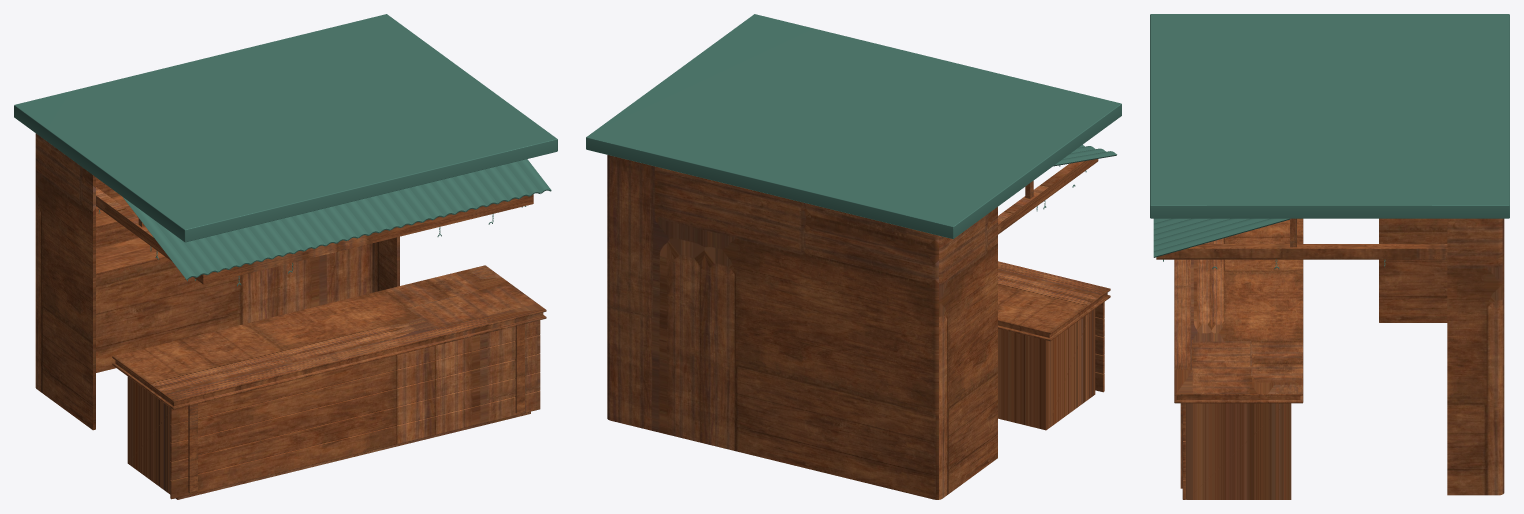
Rendered from market-stall.glb.
The picture shows the model from 3 angles, left to right: view 1: azimuth 30°, elevation 25°; view 2: azimuth 150°, elevation 25°; view 3: azimuth 270°, elevation 25°; orthographic projection. The views are drawn at different scales.
Parts seen in each view (by area): view 1: ROOF, BACK_BLOCK, PLANK, TABLE_TOP, SHED, SUPPORT_DOWN, SHELF_1, BAR_L, BAR_R; view 2: BACK_BLOCK, ROOF, TABLE_TOP, SUPPORT_DOWN, PLANK, SHED; view 3: ROOF, TABLE_TOP, BACK_BLOCK, SUPPORT_DOWN, SHED.
Part boxes in pixels (<box>): ROOF: <box>14,14,557,242</box>; BACK_BLOCK: <box>35,133,399,430</box>; PLANK: <box>170,320,540,499</box>; TABLE_TOP: <box>112,265,546,499</box>; SHED: <box>123,159,551,279</box>; SUPPORT_DOWN: <box>96,187,533,284</box>; SHELF_1: <box>96,238,166,275</box>; BAR_L: <box>188,403,197,493</box>; BAR_R: <box>515,324,524,413</box>; BACK_BLOCK: <box>607,155,997,499</box>; ROOF: <box>586,14,1121,239</box>; TABLE_TOP: <box>998,261,1110,430</box>; SUPPORT_DOWN: <box>998,159,1098,234</box>; PLANK: <box>1095,302,1104,392</box>; SHED: <box>1053,144,1116,166</box>; ROOF: <box>1150,14,1509,218</box>; TABLE_TOP: <box>1174,218,1303,499</box>; BACK_BLOCK: <box>1379,218,1504,495</box>; SUPPORT_DOWN: <box>1156,244,1447,259</box>; SHED: <box>1153,218,1290,257</box>.
Bounding box in the file's own units: 3.5 × 2.55 × 2.78.
2 materials, 1 textured.
